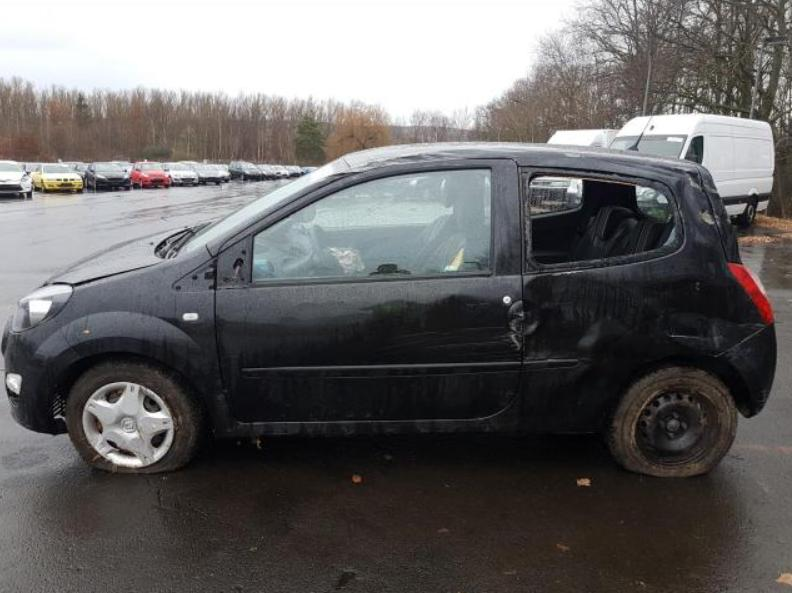Back-bumper: (720, 323, 777, 418)
Back-wheel: (607, 366, 736, 477)
Back-window: (521, 167, 684, 274)
Fender: (55, 245, 238, 425)
Front-bumper: (4, 320, 83, 435)
Front-door: (216, 159, 524, 423)
Front-wheel: (64, 362, 199, 475)
Front-window: (253, 169, 492, 276)
Headlight: (9, 284, 73, 332)
Hood: (45, 219, 217, 284)
Quarter-panel: (521, 252, 764, 433)
Rocker-panel: (215, 386, 531, 440)
Roof: (342, 141, 701, 172)
Tail-light: (727, 262, 776, 322)
Trunk: (699, 165, 743, 263)
Windshield: (173, 157, 348, 255)
